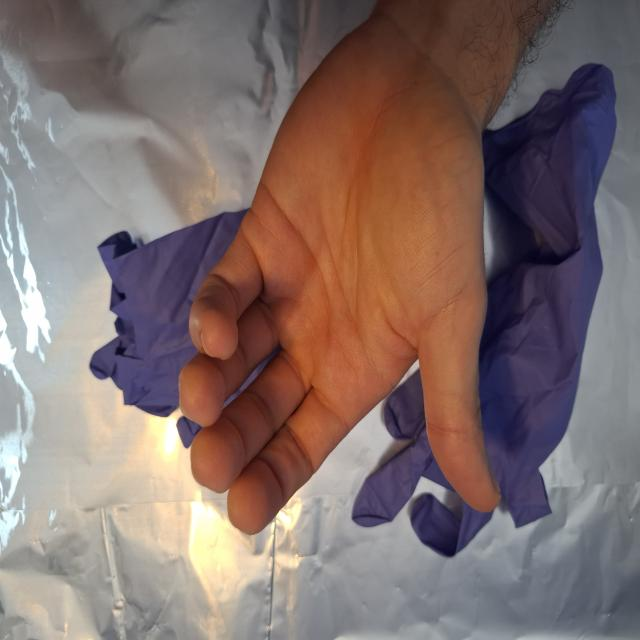glove_off: (175, 3, 504, 539)
